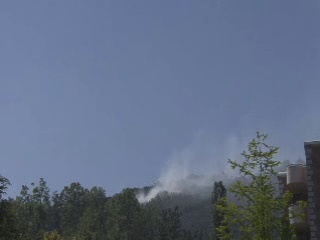smoke: (131, 150, 227, 205)
